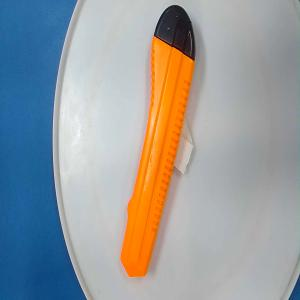estilete: (120, 4, 196, 278)
